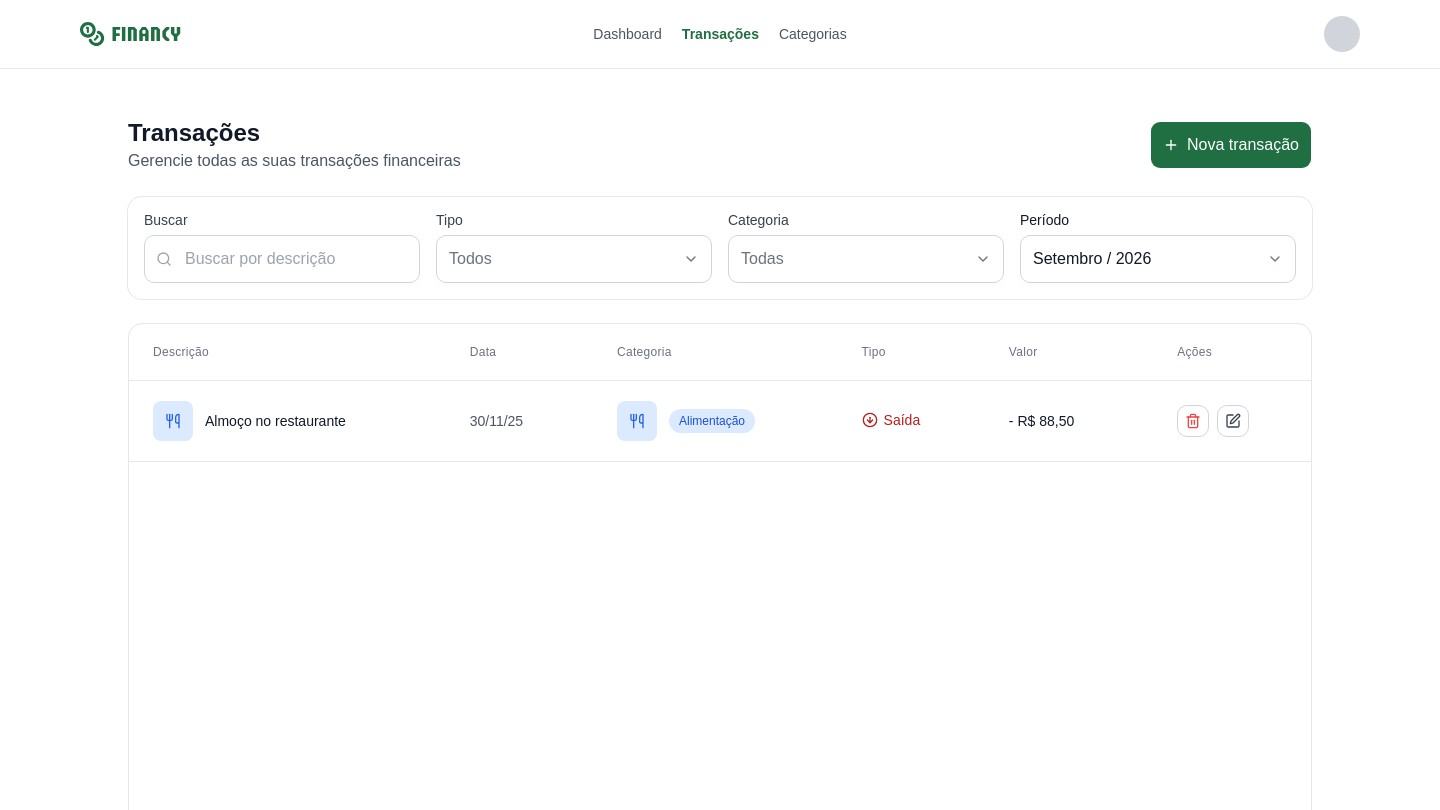
it: TransactionsPage › opens EditTransactionDialog for the clicked row's transaction
Click the button named "Editar".
click(1233, 421)  # box [1217,405,1249,437]
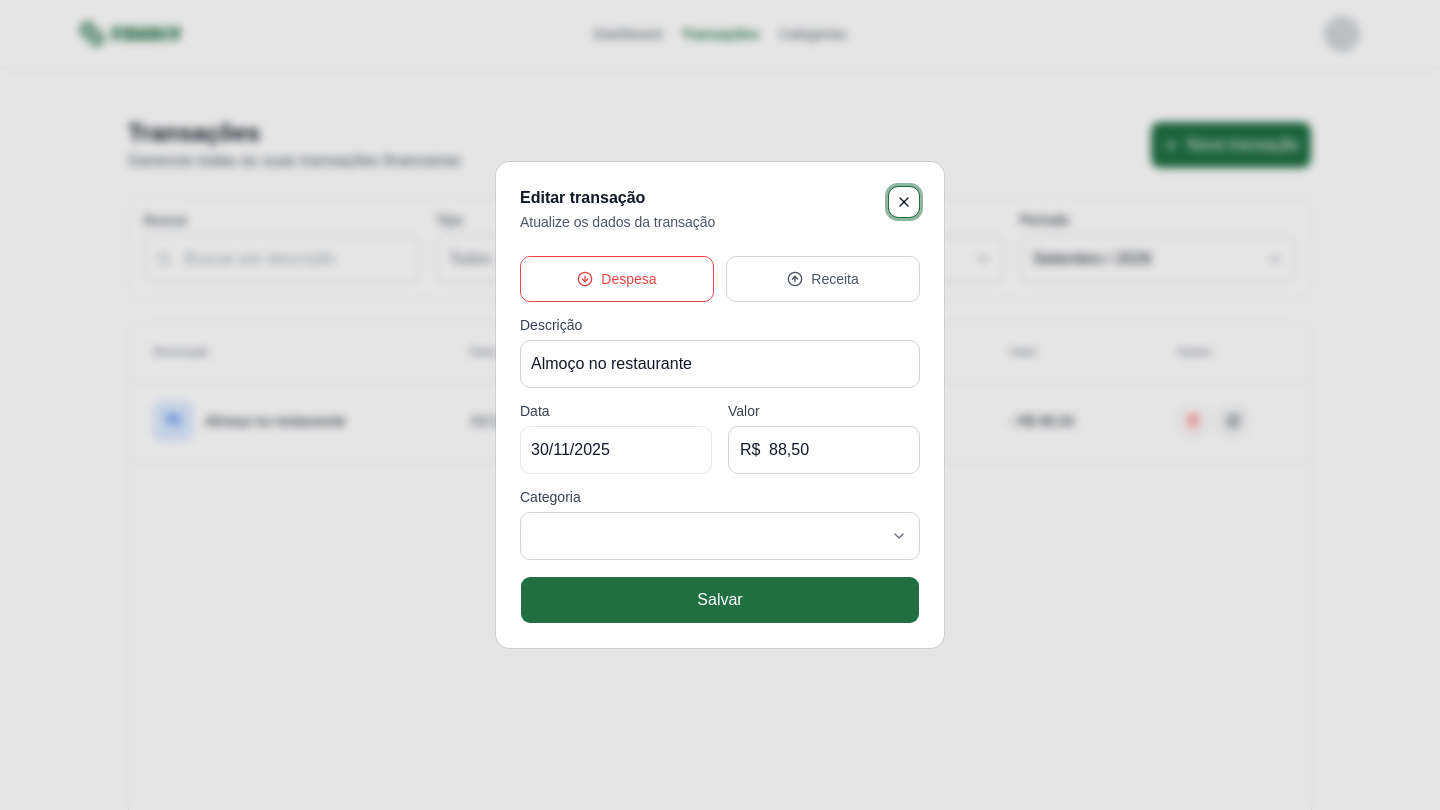
Expected: the heading "Editar transação" is shown, [520,189,645,206]
